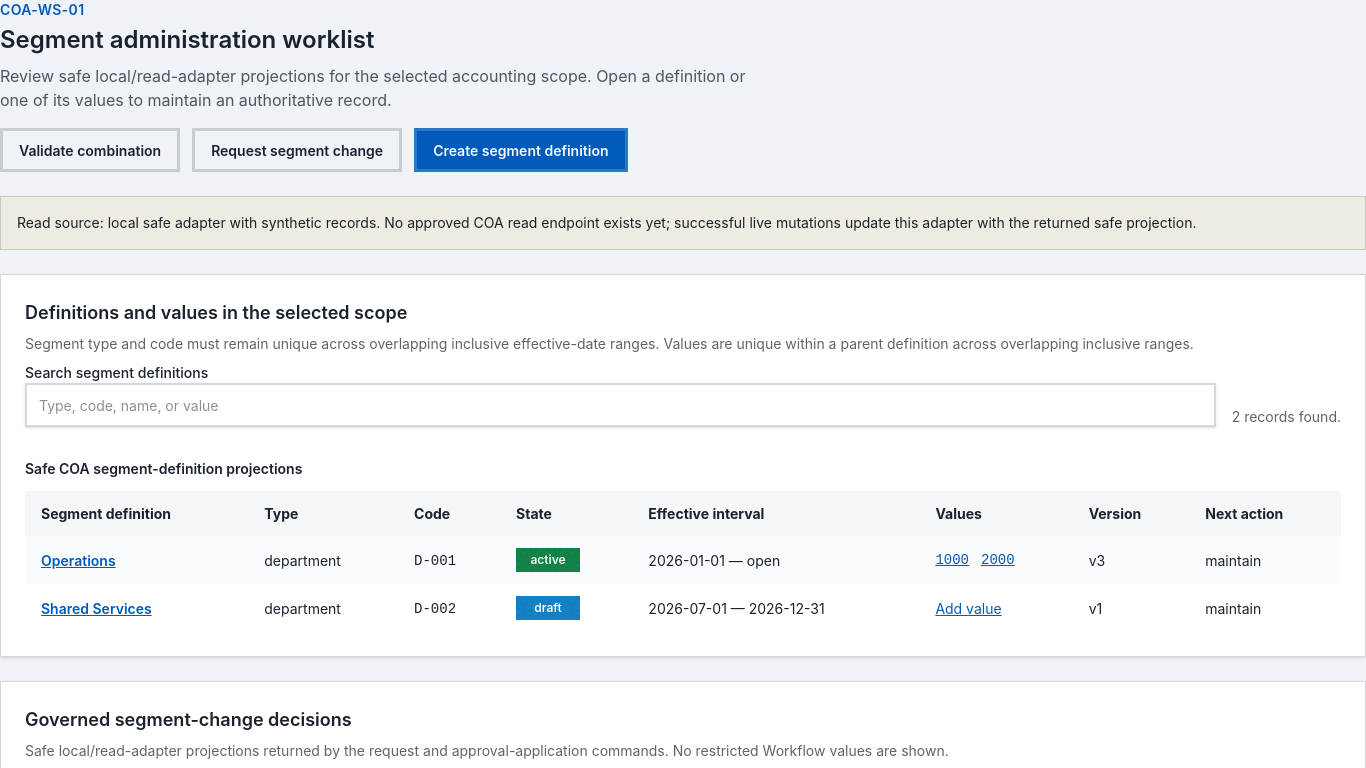
Test: COA segment workspace › shows the selected scope worklist and filters safe adapter records
Expected: the heading "Segment administration worklist" is shown, left=0, top=25, right=374, bottom=54
Expected: the text "local safe adapter" is shown, left=17, top=214, right=1196, bottom=231
In the field labelled "Search segment definitions": (620, 405) left=25, top=383, right=1216, bottom=427, type "shared"
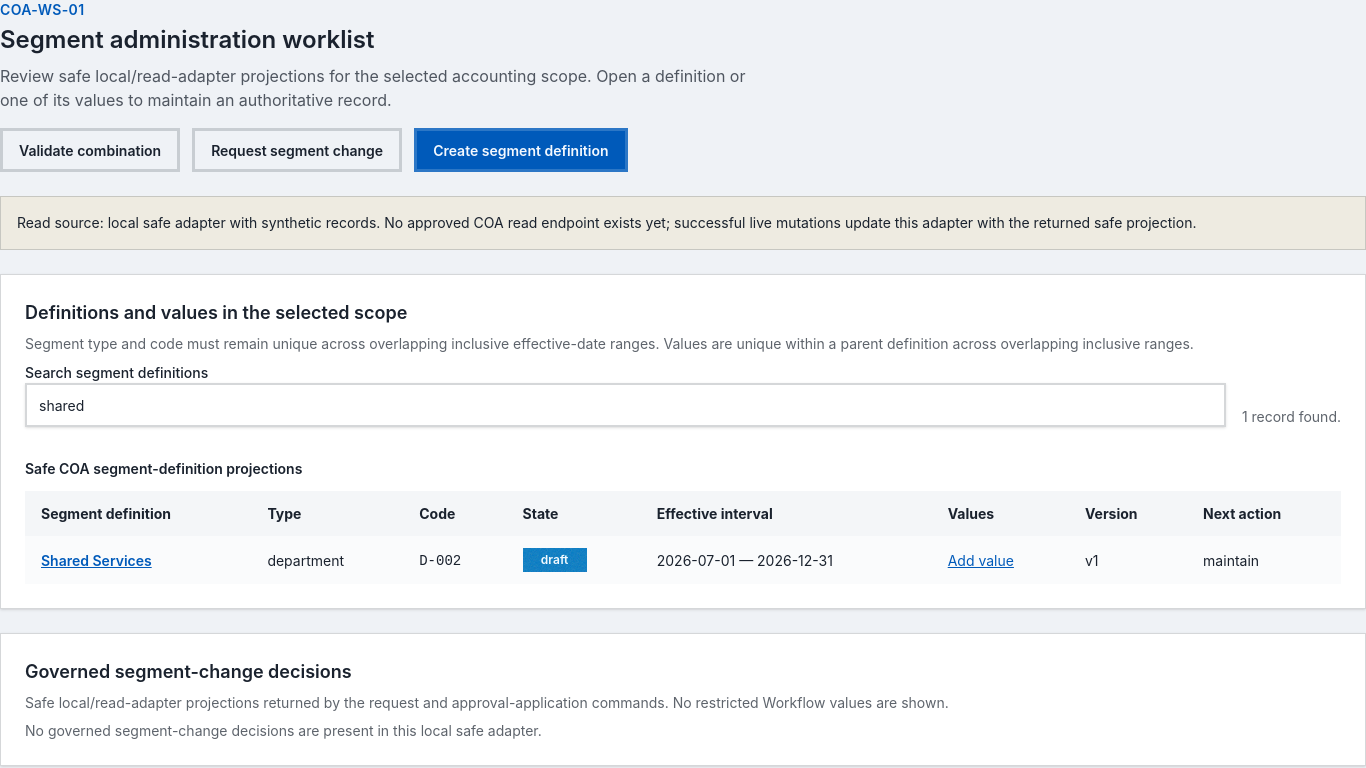
Expected: the link "Shared Services" is shown, left=41, top=552, right=152, bottom=569
Result: the text "1 record found." is shown at left=1242, top=407, right=1341, bottom=427
Result: the link "Operations" is gone
